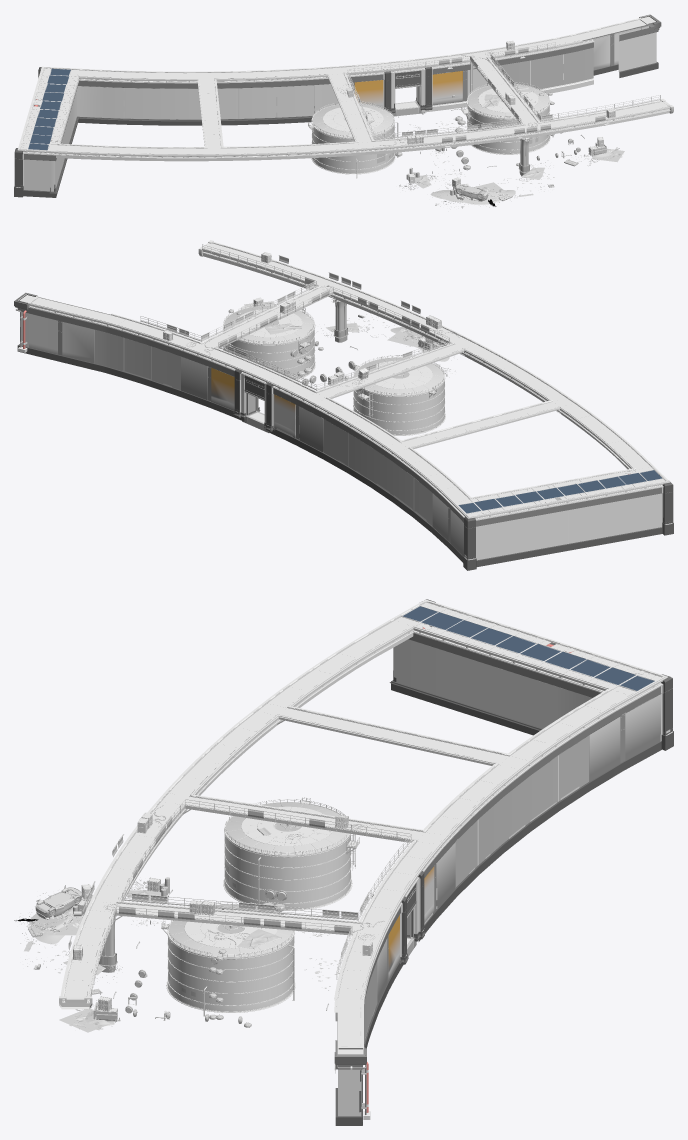
File: cell_173_113.fbx
3 views of the same model, one above another, from view 1: azimuth 30°, elevation 25°; view 2: azimuth 150°, elevation 25°; view 3: azimuth 270°, elevation 25° (orthographic). The views are drawn at different scales.
Parts seen in each view (by area): view 1: SM_H_Building_FutureTech_Aerospace_02.mo, SM_H_FutureTech_Mechanical_LiquidTank_02.mo.002, SM_H_FutureTech_Mechanical_LiquidTank_02.mo.001, SM_H_Building_FutureTech_Aerospace_02_Decal.mo, SM_H_Building_FutureTech_Aerospace_02D_05.mo, SM_H_Building_FutureTech_Aerospace_02D_06.mo, SM_H_Building_FutureTech_Aerospace_02C.mo, SM_I_Terrain_Road_Desert_Decal_Sand_09.mo.075, SM_FutureTech_Vehicle_ConceptCar_01_Damage.mo.009, SM_H_Building_FutureTech_Aerospace_02B.mo.002; view 2: SM_H_Building_FutureTech_Aerospace_02.mo, SM_H_FutureTech_Mechanical_LiquidTank_02.mo.002, SM_H_FutureTech_Mechanical_LiquidTank_02.mo.001, SM_H_Building_FutureTech_Aerospace_02_Decal.mo, SM_H_Building_FutureTech_Aerospace_02D_05.mo, SM_H_Building_FutureTech_Aerospace_02D_06.mo, SM_H_Building_FutureTech_Aerospace_02C.mo, SM_H_Building_FutureTech_Aerospace_02B.mo.002; view 3: SM_H_Building_FutureTech_Aerospace_02.mo, SM_H_FutureTech_Mechanical_LiquidTank_02.mo.002, SM_H_FutureTech_Mechanical_LiquidTank_02.mo.001, SM_H_Building_FutureTech_Aerospace_02_Decal.mo, SM_H_Building_FutureTech_Aerospace_02D_05.mo, SM_H_Building_FutureTech_Aerospace_02D_06.mo, SM_FutureTech_Vehicle_ConceptCar_01_Damage.mo.009.
Part boxes in pixels (left/top/right/bottom): SM_H_Building_FutureTech_Aerospace_02.mo: left=14, top=14, right=673, bottom=197; SM_H_FutureTech_Mechanical_LiquidTank_02.mo.002: left=308, top=101, right=398, bottom=178; SM_H_FutureTech_Mechanical_LiquidTank_02.mo.001: left=461, top=81, right=553, bottom=154; SM_H_Building_FutureTech_Aerospace_02_Decal.mo: left=28, top=19, right=668, bottom=153; SM_H_Building_FutureTech_Aerospace_02D_05.mo: left=347, top=56, right=521, bottom=140; SM_H_Building_FutureTech_Aerospace_02D_06.mo: left=490, top=42, right=660, bottom=121; SM_H_Building_FutureTech_Aerospace_02C.mo: left=25, top=28, right=668, bottom=157; SM_I_Terrain_Road_Desert_Decal_Sand_09.mo.075: left=430, top=190, right=515, bottom=204; SM_FutureTech_Vehicle_ConceptCar_01_Damage.mo.009: left=455, top=184, right=488, bottom=201; SM_H_Building_FutureTech_Aerospace_02B.mo.002: left=519, top=137, right=529, bottom=175; SM_H_Building_FutureTech_Aerospace_02.mo: left=14, top=240, right=673, bottom=570; SM_H_FutureTech_Mechanical_LiquidTank_02.mo.002: left=353, top=355, right=445, bottom=435; SM_H_FutureTech_Mechanical_LiquidTank_02.mo.001: left=223, top=303, right=315, bottom=380; SM_H_Building_FutureTech_Aerospace_02_Decal.mo: left=32, top=243, right=662, bottom=513; SM_H_Building_FutureTech_Aerospace_02D_05.mo: left=218, top=287, right=450, bottom=390; SM_H_Building_FutureTech_Aerospace_02D_06.mo: left=140, top=244, right=316, bottom=341; SM_H_Building_FutureTech_Aerospace_02C.mo: left=16, top=251, right=662, bottom=518; SM_H_Building_FutureTech_Aerospace_02B.mo.002: left=332, top=297, right=347, bottom=342; SM_H_Building_FutureTech_Aerospace_02.mo: left=59, top=599, right=673, bottom=1125; SM_H_FutureTech_Mechanical_LiquidTank_02.mo.002: left=223, top=797, right=359, bottom=910; SM_H_FutureTech_Mechanical_LiquidTank_02.mo.001: left=161, top=901, right=295, bottom=1016; SM_H_Building_FutureTech_Aerospace_02_Decal.mo: left=64, top=606, right=654, bottom=1046; SM_H_Building_FutureTech_Aerospace_02D_05.mo: left=121, top=799, right=411, bottom=921; SM_H_Building_FutureTech_Aerospace_02D_06.mo: left=91, top=906, right=352, bottom=996; SM_FutureTech_Vehicle_ConceptCar_01_Damage.mo.009: left=35, top=887, right=82, bottom=919.
Size of the model in its own units: 127 by 10.88 by 77.16.
